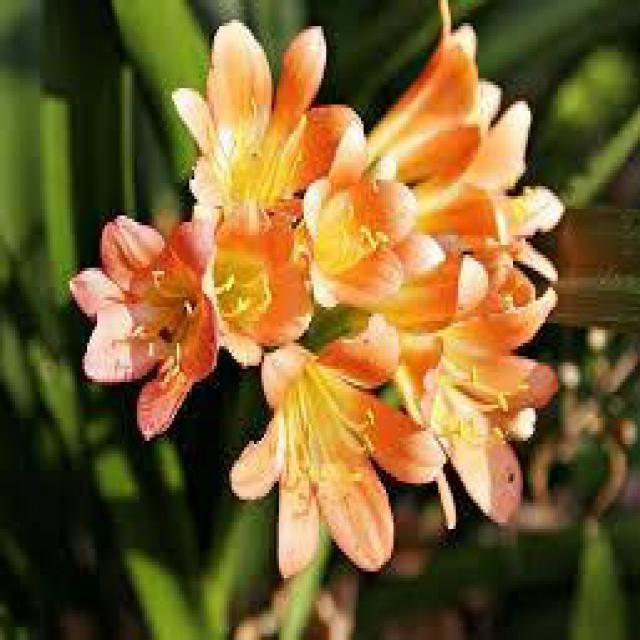freesia: (410, 243, 594, 526), (246, 321, 435, 596), (49, 178, 228, 431), (381, 33, 565, 246), (165, 38, 370, 218), (174, 198, 326, 384), (290, 119, 430, 317)
